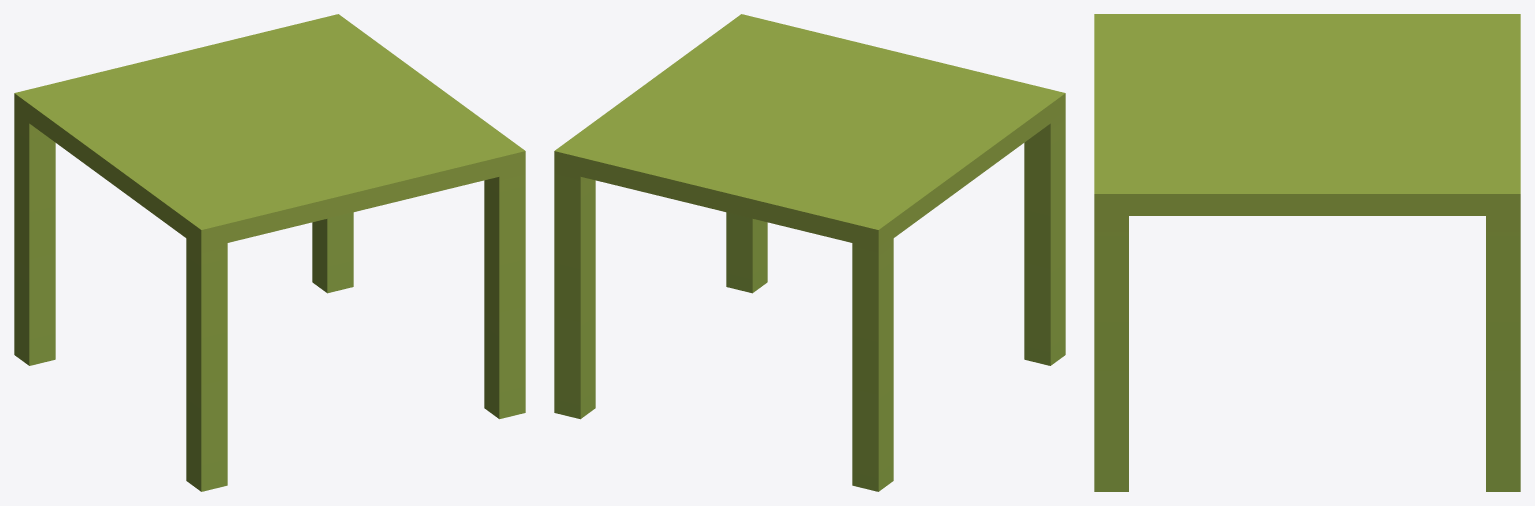
The model's file is Table_03.fbx.
The picture shows the model from 3 angles, left to right: view 1: azimuth 30°, elevation 25°; view 2: azimuth 150°, elevation 25°; view 3: azimuth 270°, elevation 25°; orthographic projection. The views are drawn at different scales.
Visible parts, largest first — view 1: Table_03; view 2: Table_03; view 3: Table_03.
Boxes of the visible parts, x1,y1,x2,y2 form: Table_03: (14, 14, 525, 491); Table_03: (554, 14, 1065, 491); Table_03: (1094, 14, 1520, 491).
Size of the model in its own units: 1.1 by 0.8489 by 1.1.
